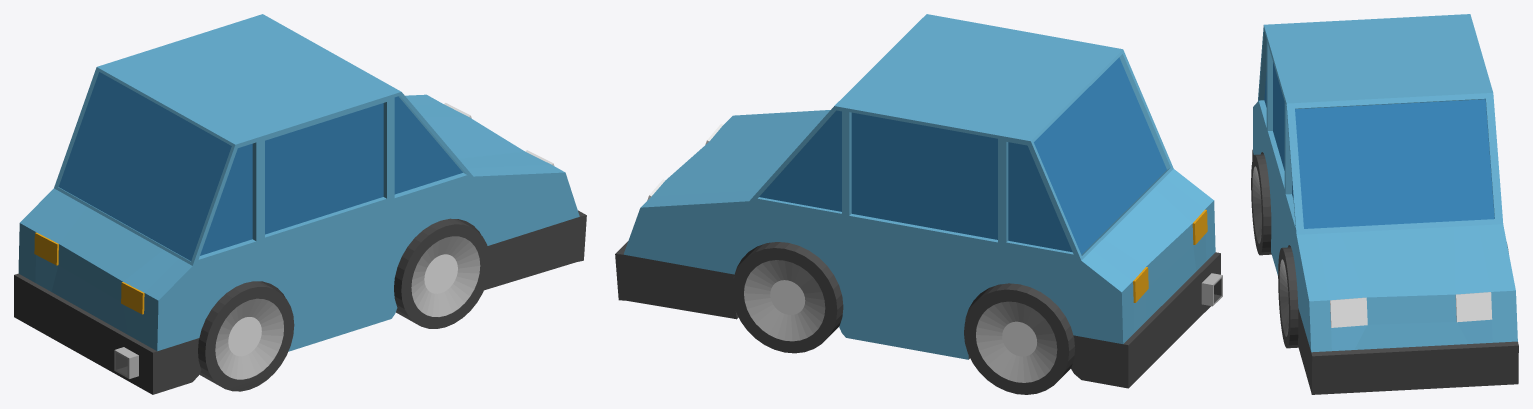
File: car_blue.fbx
3 views of the same model, side by side, from view 1: azimuth 30°, elevation 25°; view 2: azimuth 150°, elevation 25°; view 3: azimuth 270°, elevation 25° (orthographic). The views are drawn at different scales.
Visible parts, largest first — view 1: Cube.003, Cylinder.007, Cylinder.008; view 2: Cube.003, Cylinder.006, Cylinder.009; view 3: Cube.003, Cylinder.008, Cylinder.007.
Boxes of the visible parts, box(x1,y1,x2,y2) form: Cube.003: box(14, 14, 586, 394); Cylinder.007: box(198, 281, 294, 391); Cylinder.008: box(394, 218, 490, 328); Cube.003: box(615, 14, 1222, 388); Cylinder.006: box(732, 242, 843, 353); Cylinder.009: box(964, 283, 1075, 394); Cube.003: box(1252, 14, 1518, 394); Cylinder.008: box(1278, 247, 1298, 348); Cylinder.007: box(1251, 154, 1271, 255).
Bounding box in the file's own units: 210 × 100 × 110.
